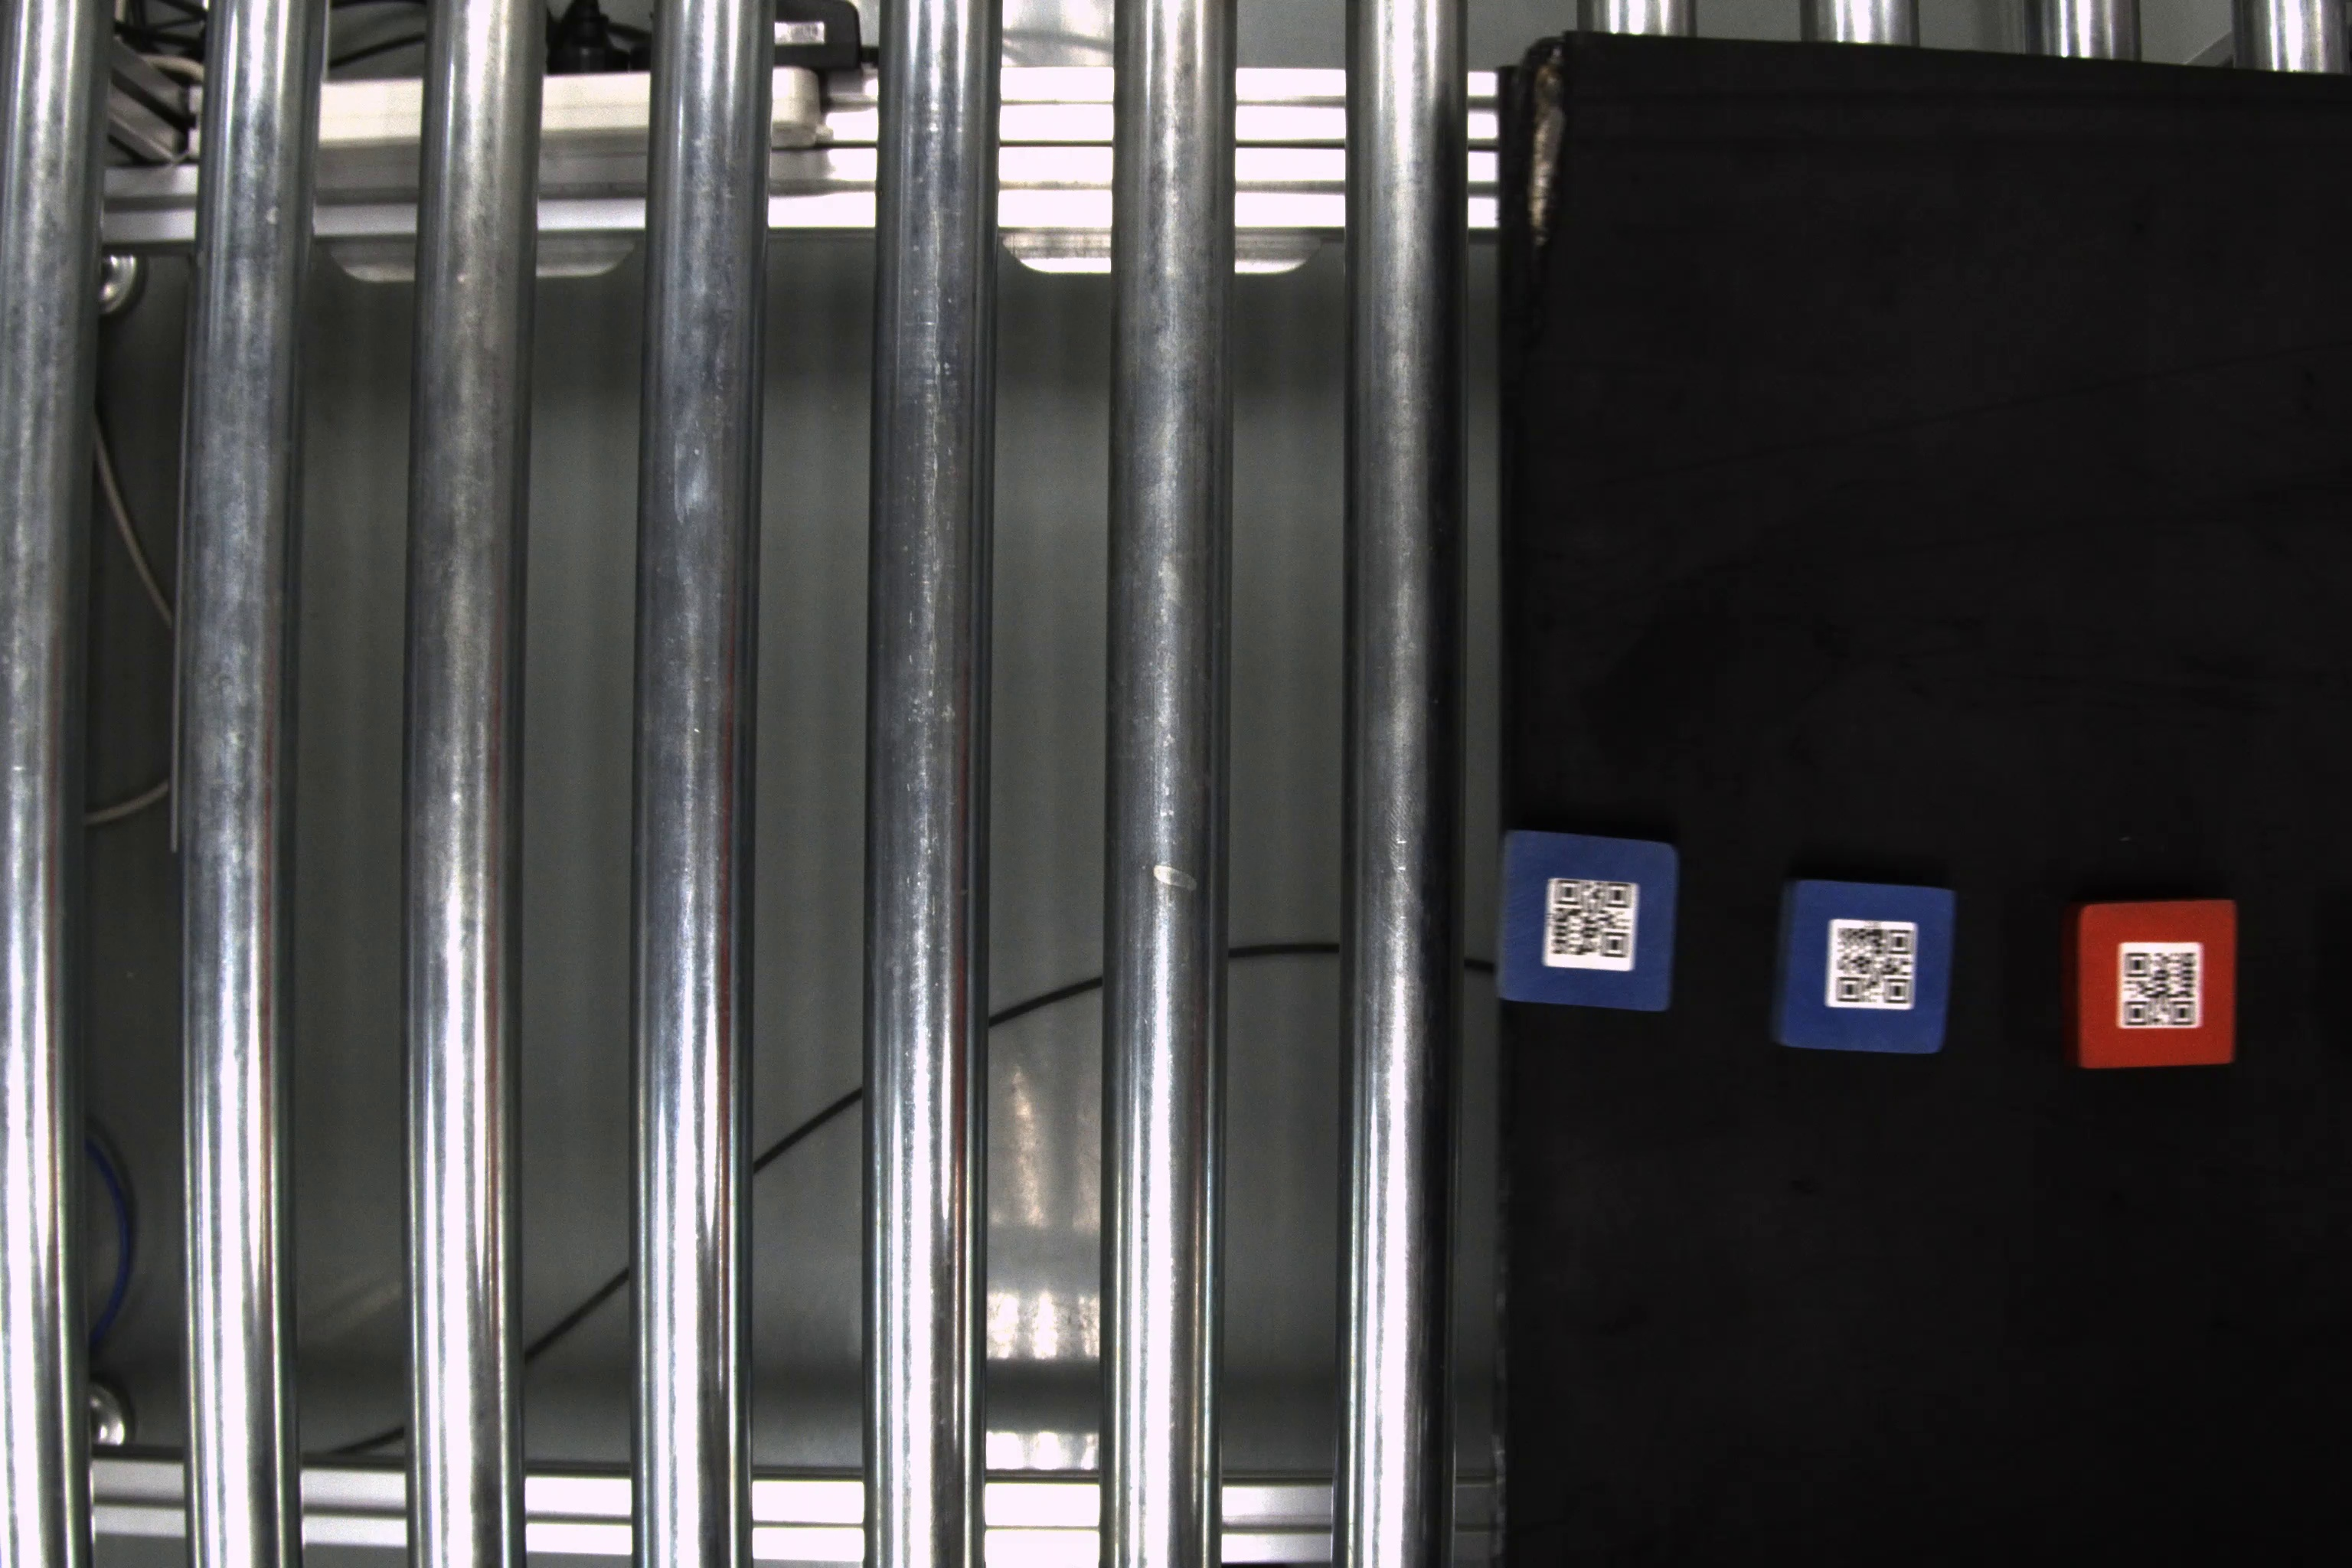wood: (1493, 822, 1683, 1011), (1771, 873, 1960, 1059), (2061, 894, 2242, 1074)
